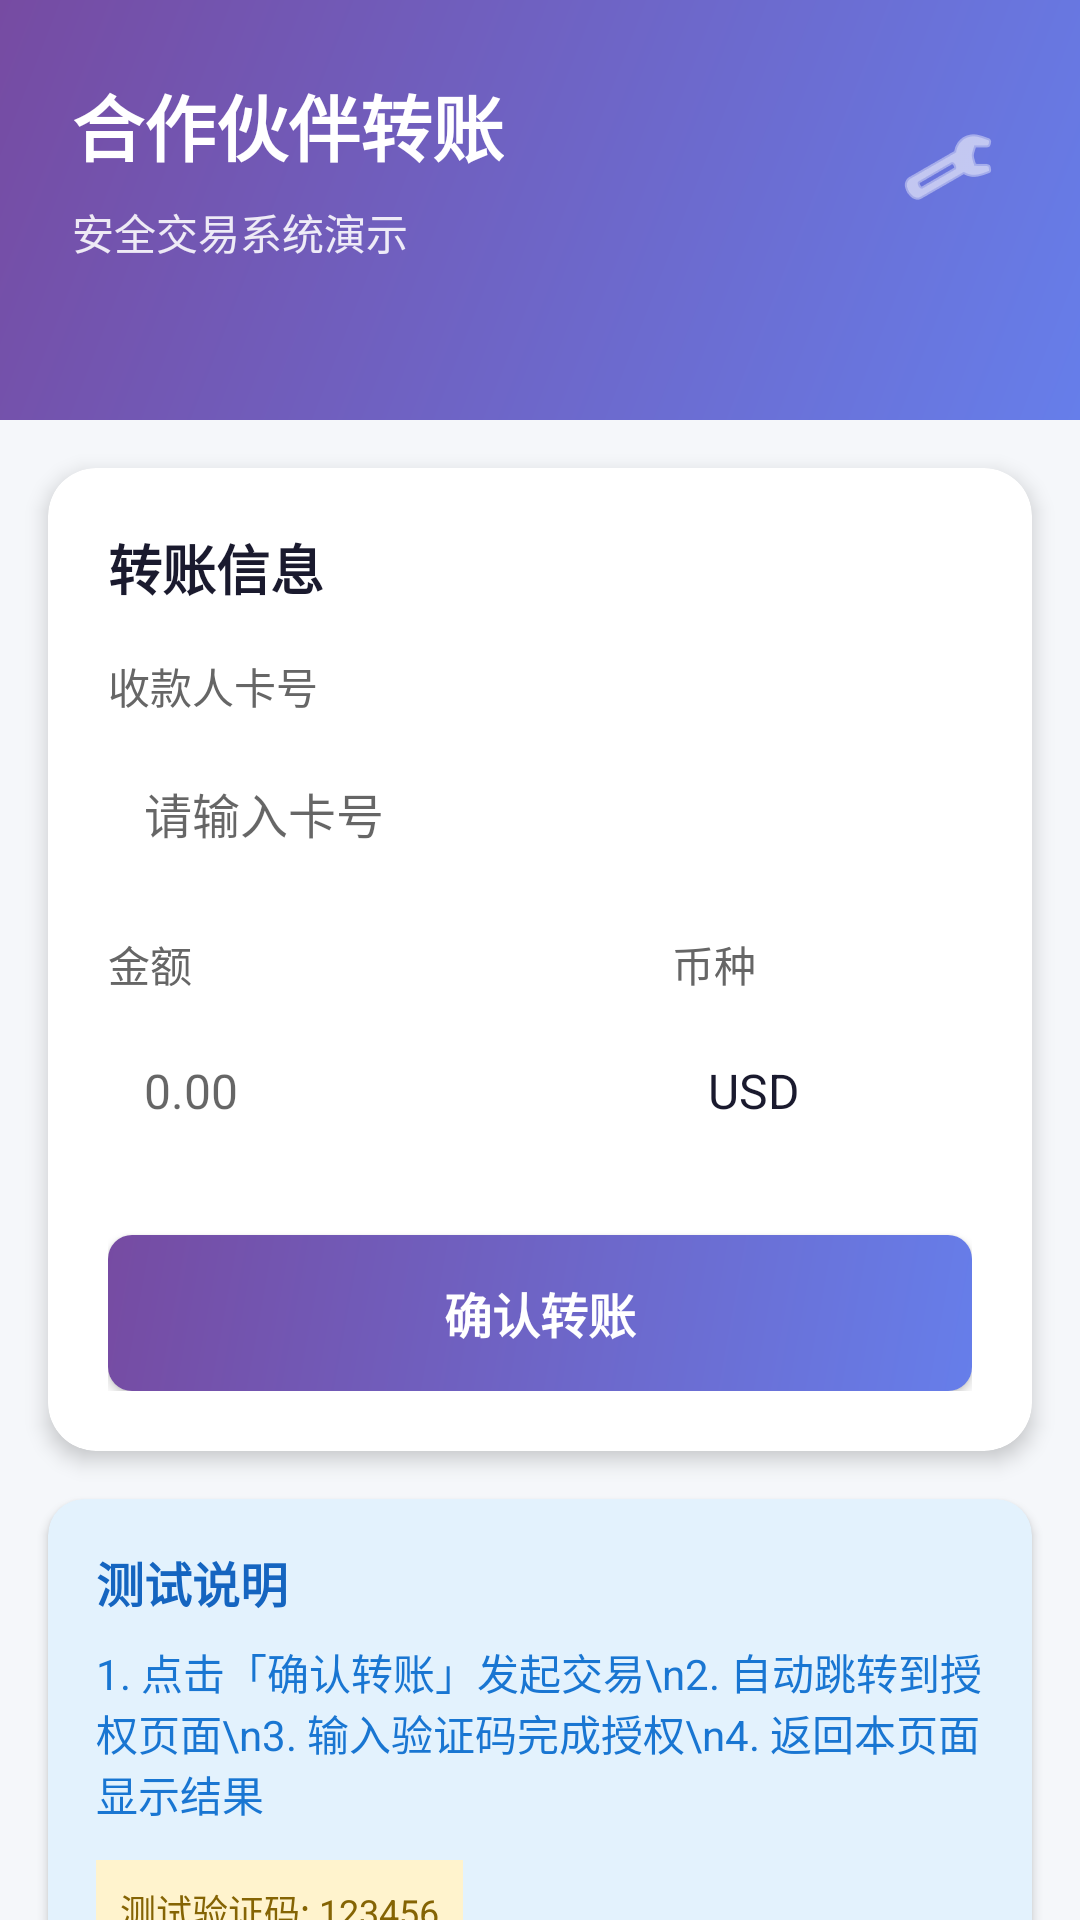

Screen size 1080px x 1920px. Icon name, then its box in pixels as (x1, y1, x2, y2):
设置: (905, 134, 991, 200)
